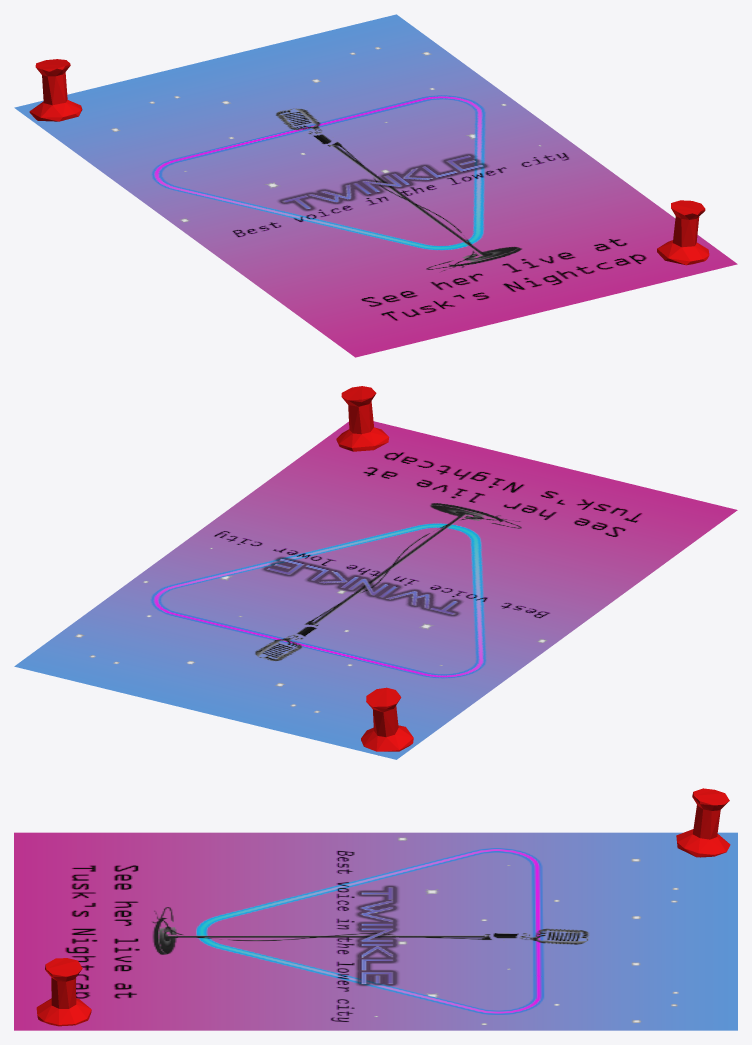
The model's file is posters8.fbx.
3 renders of one model, top to bottom at view 1: azimuth 30°, elevation 25°; view 2: azimuth 150°, elevation 25°; view 3: azimuth 270°, elevation 25°, orthographic. The views are drawn at different scales.
Visible parts, largest first — view 1: Poster_8, Cylinder.004; view 2: Poster_8, Cylinder.004; view 3: Poster_8, Cylinder.004.
Boxes of the visible parts, x1=… form: Poster_8: x1=14, y1=14, x2=737, y2=357; Cylinder.004: x1=29, y1=59, x2=709, y2=265; Poster_8: x1=14, y1=421, x2=737, y2=759; Cylinder.004: x1=336, y1=386, x2=413, y2=751; Poster_8: x1=14, y1=832, x2=737, y2=1030; Cylinder.004: x1=36, y1=788, x2=730, y2=1026.
Bounding box in the file's own units: 64.71 × 8.64 × 100.
